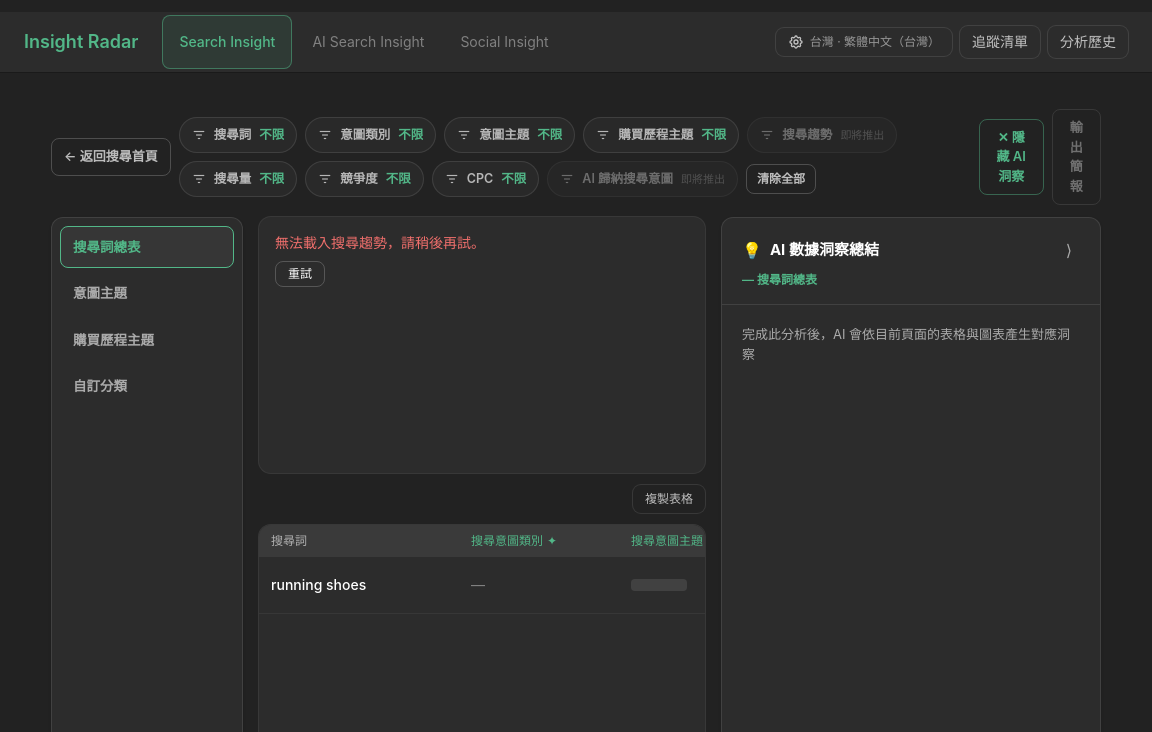
Test: view-content routing (FR-1 · AC-1.1 / AC-1.2) › switches the active view from the left dimension menu (nav → URL → content)
This screenshot has width=1152, height=732.
Note: Click the metadata-driven 意圖主題 dimension (now enabled — no longer all-disabled).
Click the button "意圖主題": (147, 293) [60, 272, 234, 315]
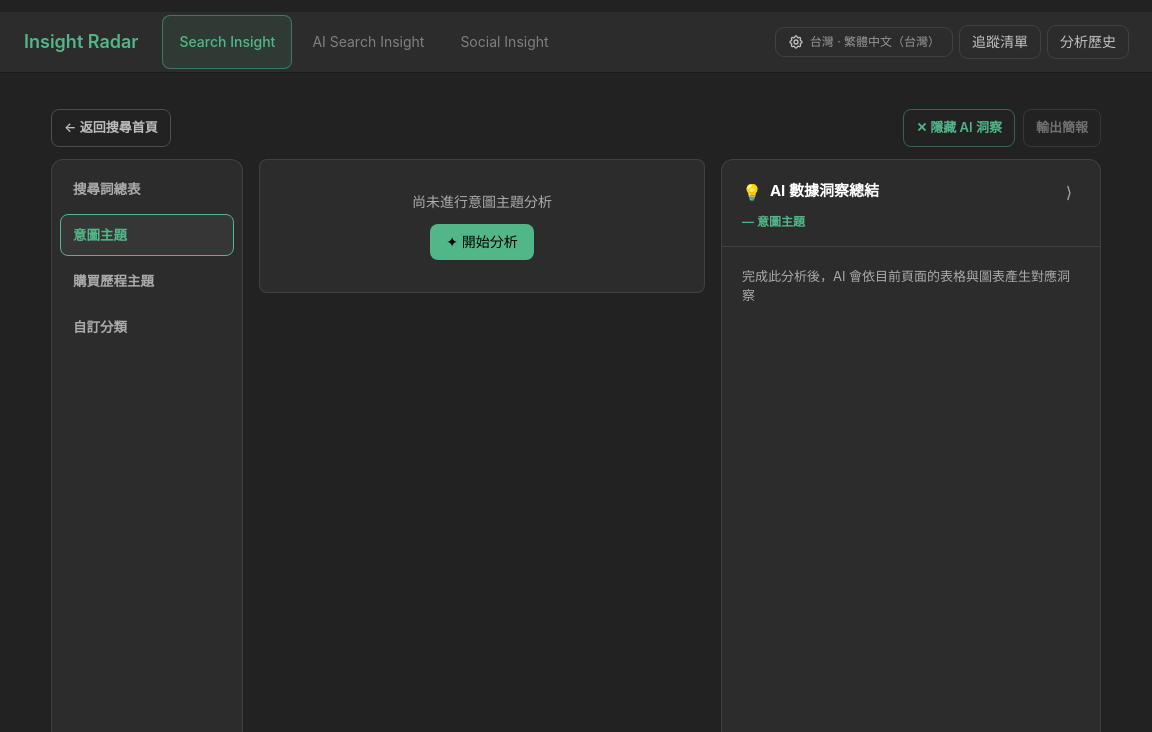
Expected: the text "尚未進行意圖主題分析" is shown, [412, 192, 552, 212]
